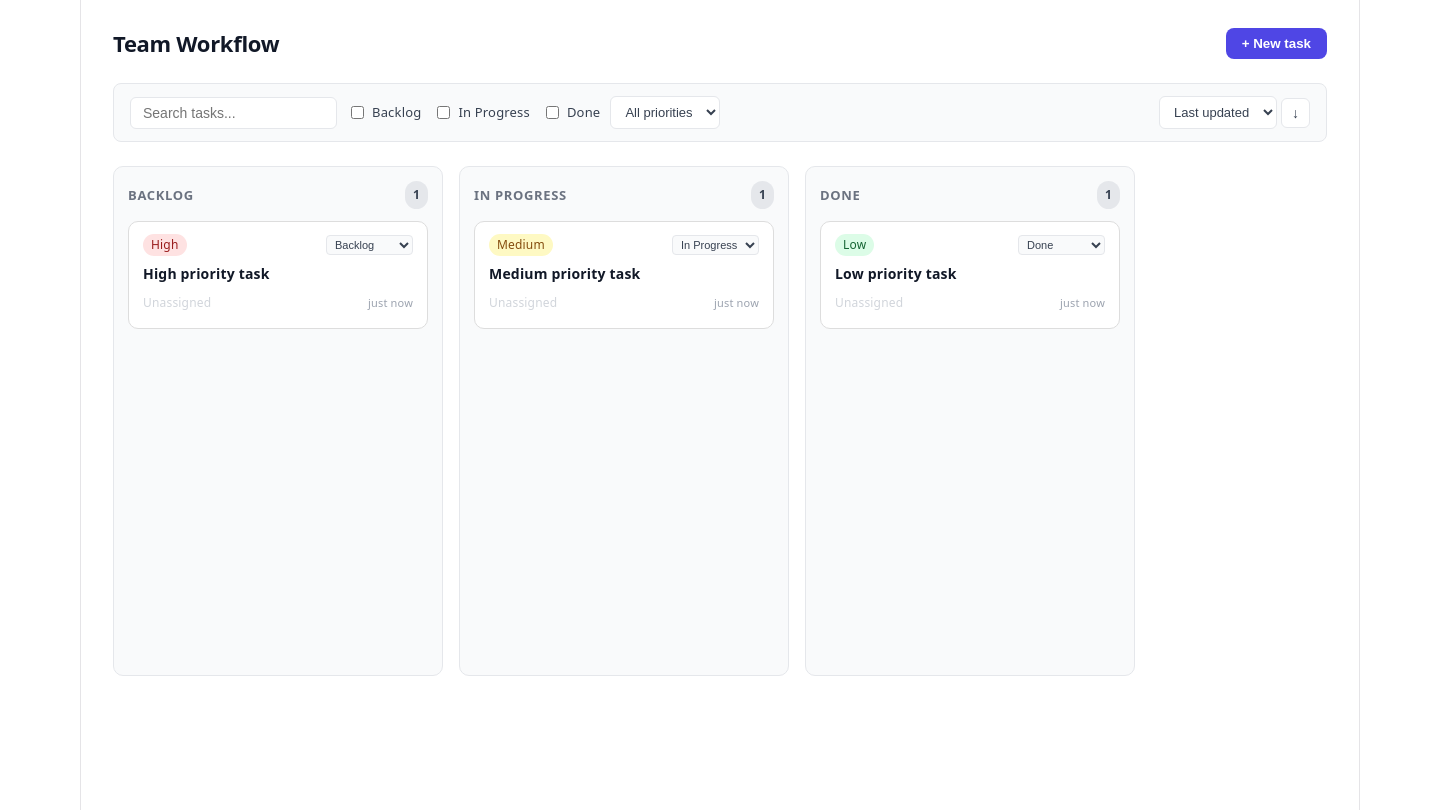
Test: filtering and sorting › filters by priority, showing only matching tasks
This screenshot has width=1440, height=810.
Expected: the text "High priority task" is shown, [143,264,270,283]
Expected: the text "Medium priority task" is shown, [489,264,640,283]
Select "High" in the dropdown named "filter by priority" at point(665, 112), box [610,96,720,129]
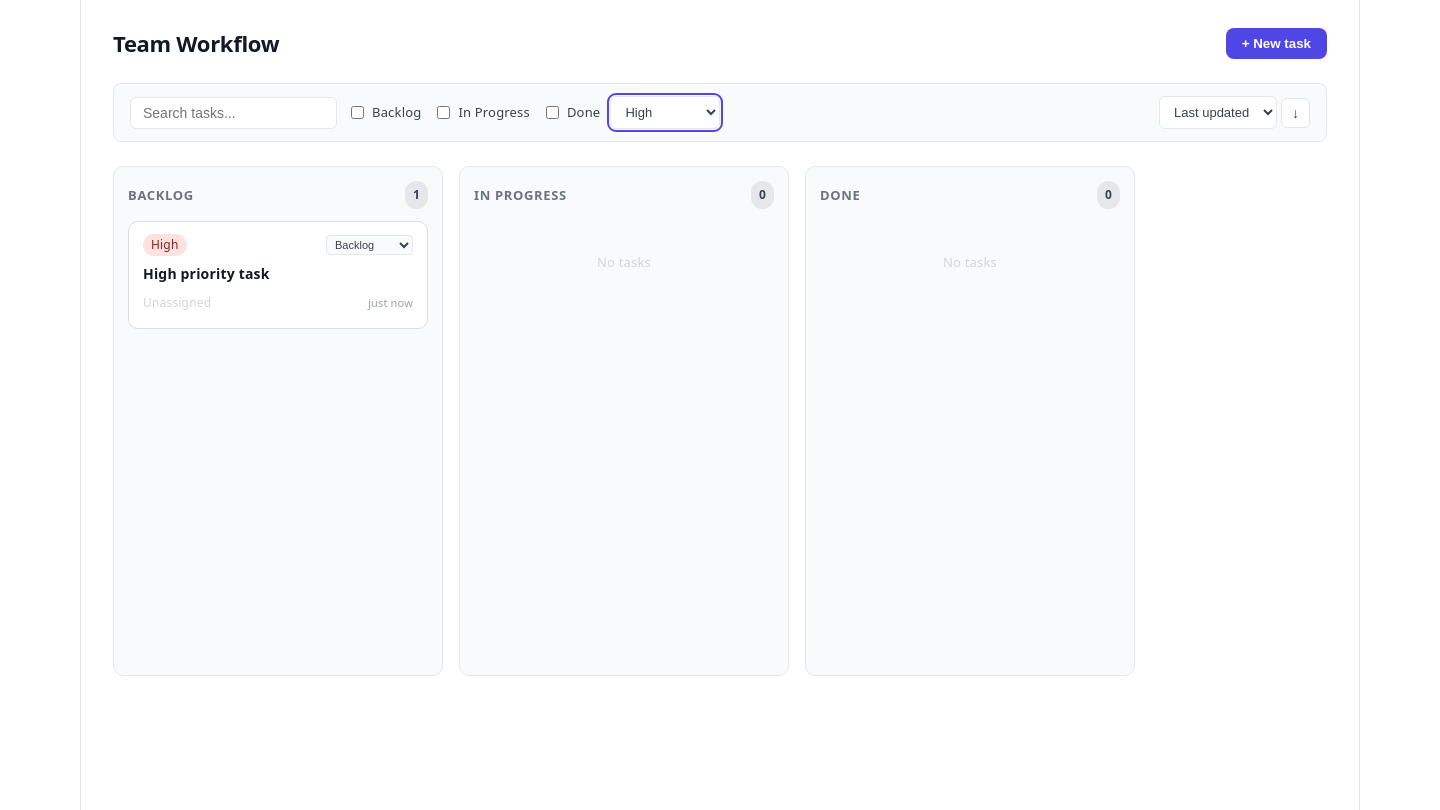
Expected: the text "High priority task" is shown, [143,264,270,283]
Now the button "Medium priority task" is gone
Now the button "Low priority task" is gone
